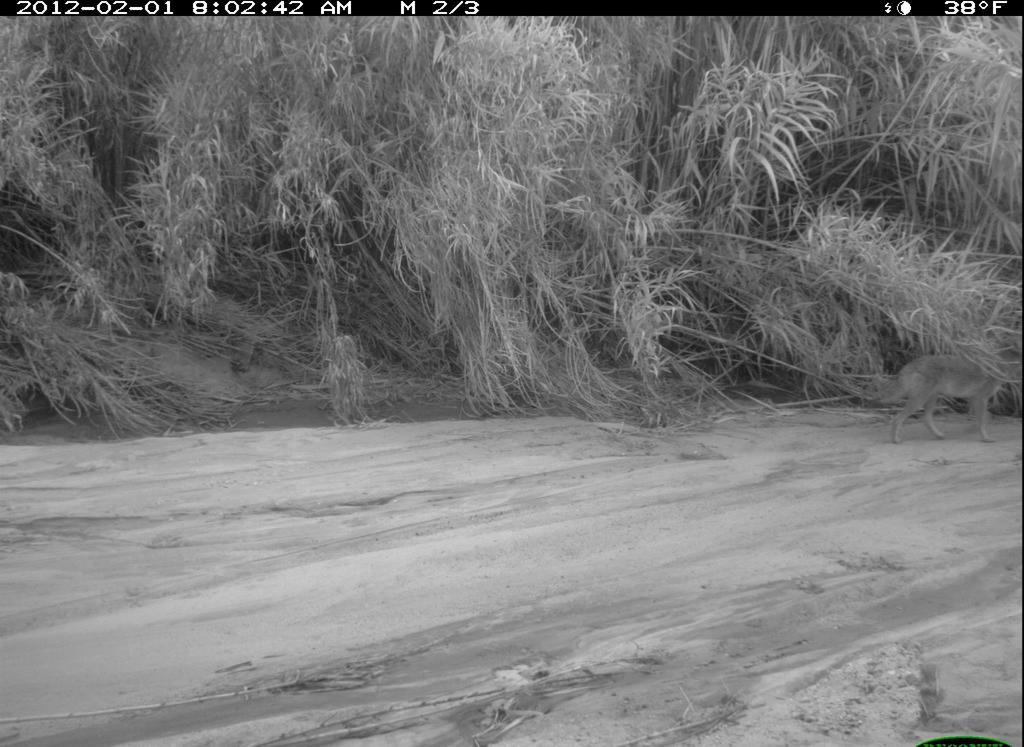coyote: (853, 337, 1021, 454)
